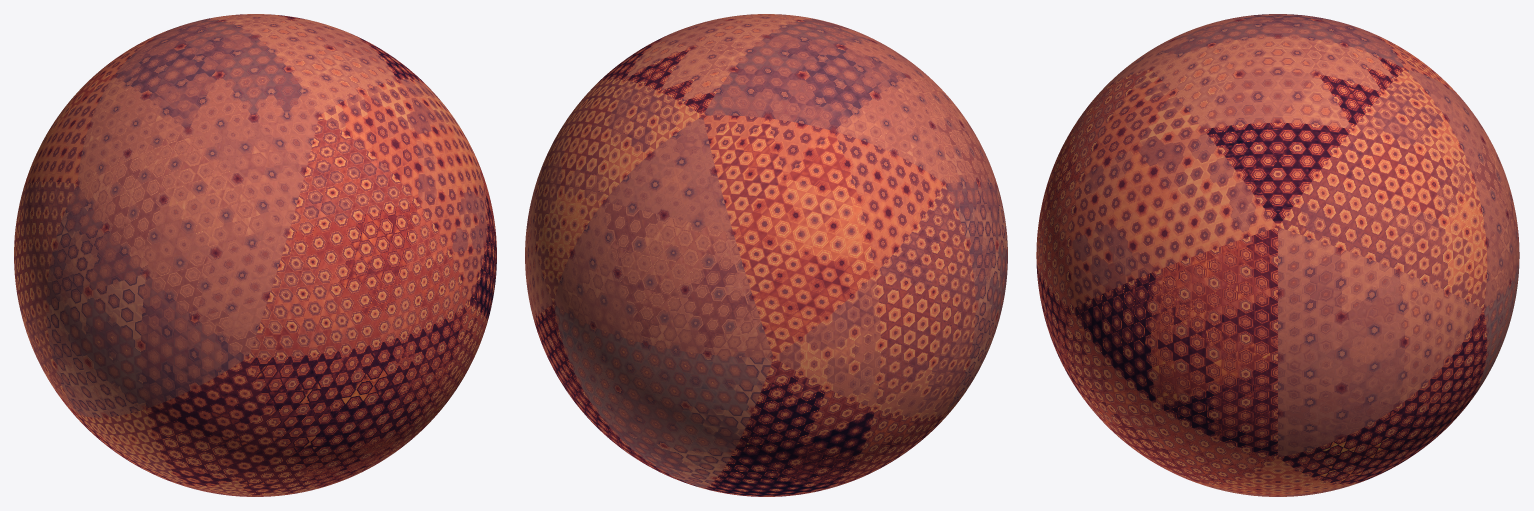
File: land2.obj
3 renders of one model, left to right at view 1: azimuth 30°, elevation 25°; view 2: azimuth 150°, elevation 25°; view 3: azimuth 270°, elevation 25°, orthographic.
Parts seen in each view (by area): view 1: Mesh_Object; view 2: Mesh_Object; view 3: Mesh_Object.
Boxes of the visible parts, x1,y1,x2,y2 form: Mesh_Object: (14,14,496,496); Mesh_Object: (525,14,1007,496); Mesh_Object: (1036,14,1519,496).
Size of the model in its own units: 13.31 by 13.31 by 13.31.
1 material, 1 textured.
